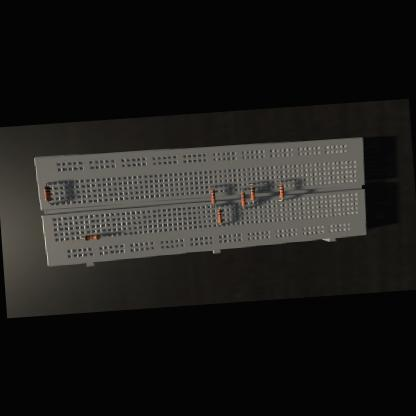breadboard: (34, 134, 370, 270)
resistor: (43, 186, 52, 200), (84, 234, 100, 240), (279, 184, 285, 198), (250, 186, 256, 200), (210, 188, 216, 202), (241, 192, 246, 205), (217, 209, 222, 222)
wire: (46, 182, 52, 186), (48, 200, 54, 204), (278, 180, 281, 184), (250, 182, 253, 186), (218, 204, 220, 208), (241, 189, 243, 192), (279, 198, 282, 200), (100, 235, 106, 236), (252, 200, 254, 202), (242, 206, 244, 208), (219, 223, 221, 225), (212, 186, 213, 189), (213, 204, 214, 206), (82, 237, 84, 238)
